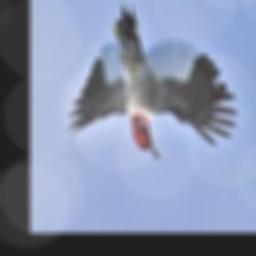Woodpecker: (67, 4, 237, 159)
